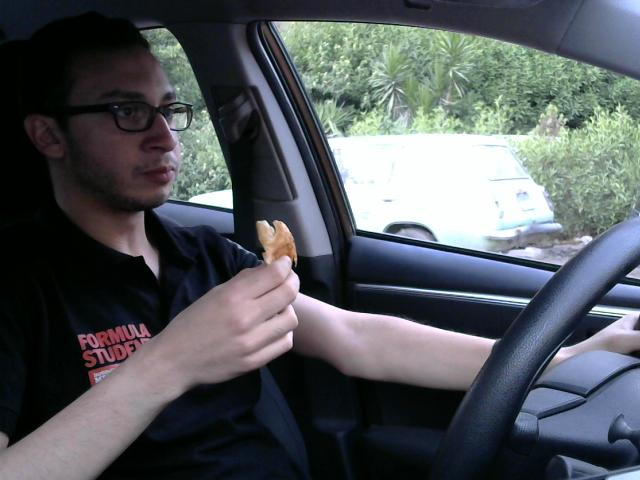Eating: (243, 213, 304, 278)
